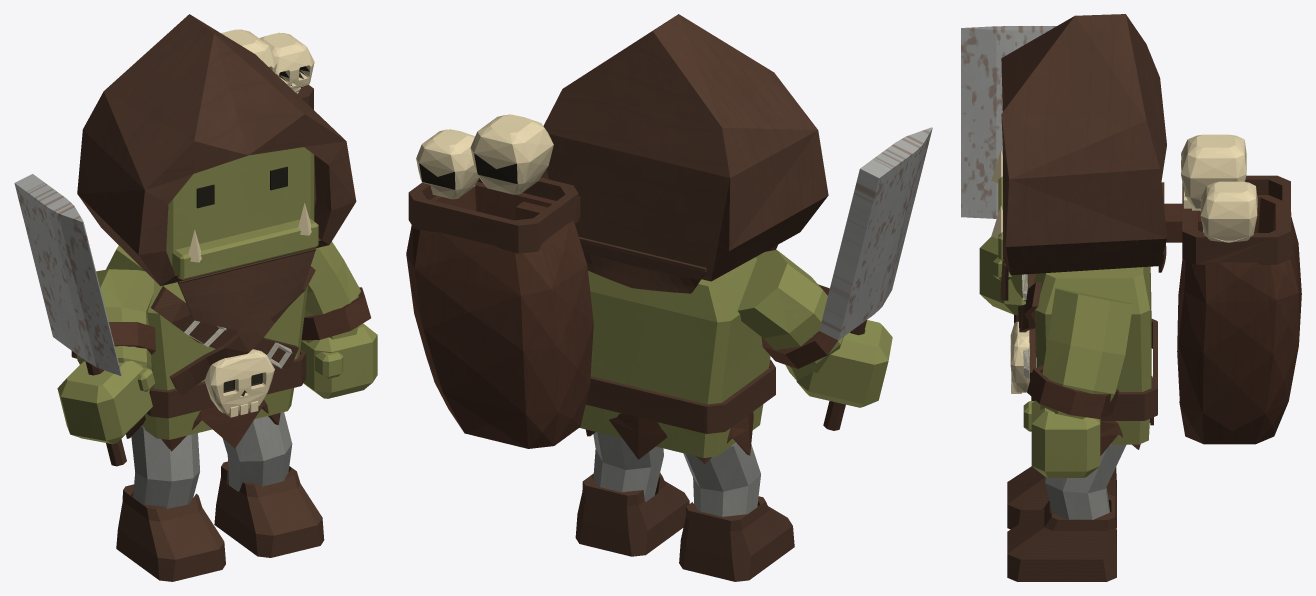
The model's file is host_01.glb.
The picture shows the model from 3 angles, left to right: view 1: azimuth 30°, elevation 25°; view 2: azimuth 150°, elevation 25°; view 3: azimuth 270°, elevation 25°; orthographic projection. The views are drawn at different scales.
Visible parts, largest first — view 1: Pointed brown hood - hollow outer cloth, One continuous underlying orc skull, RIGHT coherent thick rusty cleaver with beveled edge, RIGHT cleaver compact source hand source compact planar gras, RIGHT planted broad boot, LEFT relaxed compact source fist, LEFT planted broad boot, Brown shoulder cowl major front fold, Stocky fitted leather torso, RIGHT short trouser leg, LEFT short trouser leg, Actual ivory skull belt clasp (+9 smaller); view 2: Pointed brown hood - hollow outer cloth, Irregular angular hollow scavenger sack, Stocky fitted leather torso, RIGHT coherent thick rusty cleaver with beveled edge, RIGHT cleaver compact source hand source compact planar gras, RIGHT planted broad boot, True hollow broad leather sack mouth, LEFT planted broad boot, Fitted broad waist belt, Upper carved skull cargo, RIGHT short trouser leg, Orc rear shoulder cowl (+4 smaller); view 3: Pointed brown hood - hollow outer cloth, Irregular angular hollow scavenger sack, LEFT relaxed compact source fist, RIGHT coherent thick rusty cleaver with beveled edge, LEFT planted broad boot, Stocky fitted leather torso, True hollow broad leather sack mouth, Upper carved skull cargo, Lower carved skull cargo, LEFT short trouser leg, LEFT fitted broad leather wrist band, RIGHT planted broad boot (+5 smaller).
Boxes of the visible parts, bbox=[...] form: Pointed brown hood - hollow outer cloth: bbox=[77, 14, 356, 286]; One continuous underlying orc skull: bbox=[166, 147, 318, 279]; RIGHT coherent thick rusty cleaver with beveled edge: bbox=[14, 174, 121, 375]; RIGHT cleaver compact source hand source compact planar gras: bbox=[57, 269, 154, 443]; RIGHT planted broad boot: bbox=[116, 484, 225, 581]; LEFT relaxed compact source fist: bbox=[300, 241, 377, 398]; LEFT planted broad boot: bbox=[214, 461, 324, 557]; Brown shoulder cowl major front fold: bbox=[177, 248, 315, 333]; Stocky fitted leather torso: bbox=[106, 245, 307, 439]; RIGHT short trouser leg: bbox=[131, 426, 199, 508]; LEFT short trouser leg: bbox=[222, 412, 292, 491]; Actual ivory skull belt clasp: bbox=[204, 349, 274, 417]; Pointed brown hood - hollow outer cloth: bbox=[541, 14, 828, 281]; Irregular angular hollow scavenger sack: bbox=[406, 182, 593, 448]; Stocky fitted leather torso: bbox=[579, 257, 770, 457]; RIGHT coherent thick rusty cleaver with beveled edge: bbox=[819, 127, 932, 340]; RIGHT cleaver compact source hand source compact planar gras: bbox=[737, 249, 892, 407]; RIGHT planted broad boot: bbox=[679, 496, 794, 581]; True hollow broad leather sack mouth: bbox=[408, 177, 578, 253]; LEFT planted broad boot: bbox=[575, 472, 689, 556]; Fitted broad waist belt: bbox=[585, 359, 775, 433]; Upper carved skull cargo: bbox=[470, 114, 553, 194]; RIGHT short trouser leg: bbox=[683, 442, 760, 516]; Orc rear shoulder cowl: bbox=[579, 237, 706, 293]; Pointed brown hood - hollow outer cloth: bbox=[1001, 14, 1166, 275]; Irregular angular hollow scavenger sack: bbox=[1163, 195, 1301, 444]; LEFT relaxed compact source fist: bbox=[1023, 288, 1132, 477]; RIGHT coherent thick rusty cleaver with beveled edge: bbox=[961, 26, 1056, 218]; LEFT planted broad boot: bbox=[1007, 494, 1116, 581]; Stocky fitted leather torso: bbox=[1035, 266, 1151, 444]; True hollow broad leather sack mouth: bbox=[1182, 175, 1291, 264]; Upper carved skull cargo: bbox=[1181, 134, 1246, 210]; Lower carved skull cargo: bbox=[1200, 181, 1257, 242]; LEFT short trouser leg: bbox=[1045, 444, 1126, 519]; LEFT fitted broad leather wrist band: bbox=[1027, 365, 1118, 418]; RIGHT planted broad boot: bbox=[1007, 466, 1116, 529].
Bounding box in the file's own units: 1.14 × 1.54 × 0.9023.
Materials: 10 (8 with a texture image).
